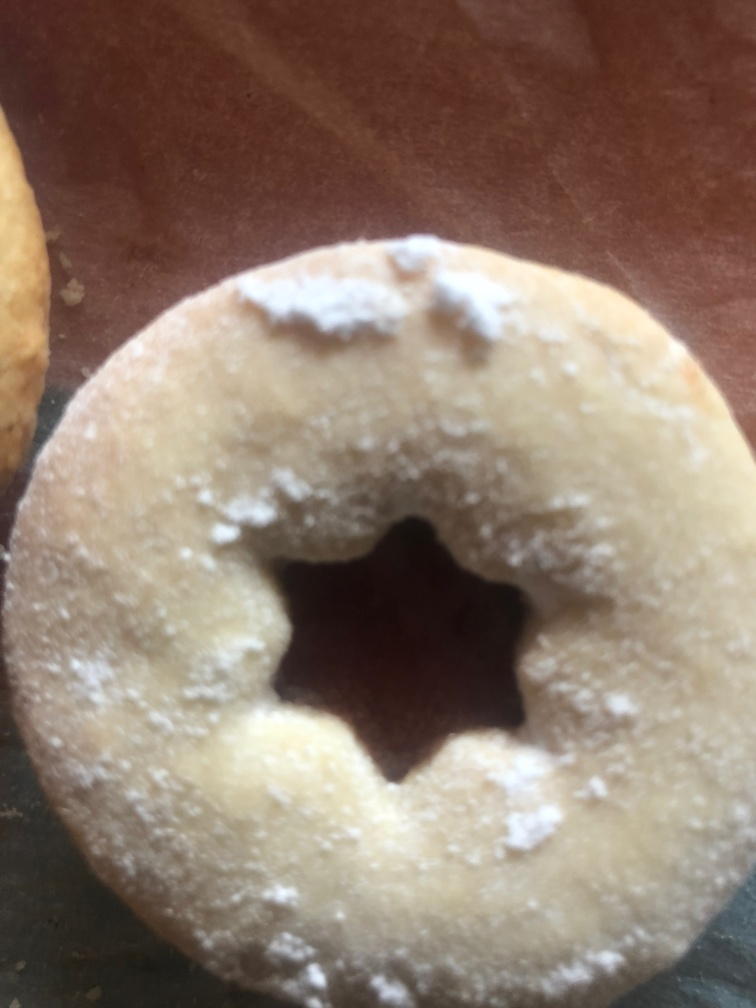christmas shortbread with jam: (4, 229, 756, 1007)
